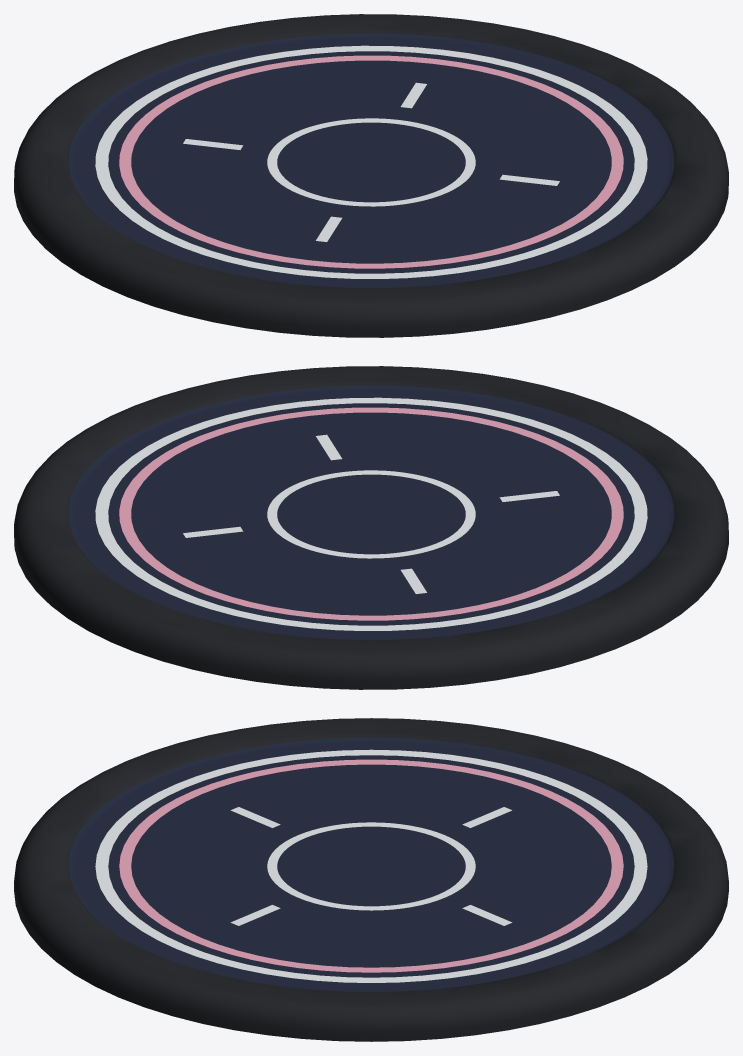
Rendered from HEX_Tokyo_QueuePad.fbx.
The picture shows the model from 3 angles, top to bottom: view 1: azimuth 30°, elevation 25°; view 2: azimuth 150°, elevation 25°; view 3: azimuth 270°, elevation 25°; orthographic projection.
Parts seen in each view (by area): view 1: Pad_Top, Pad_Base, Pad_Lines, Pad_GlowRing; view 2: Pad_Top, Pad_Base, Pad_Lines, Pad_GlowRing; view 3: Pad_Top, Pad_Base, Pad_Lines, Pad_GlowRing.
Part boxes in pixels (left/top/right/bottom): Pad_Top: left=68, top=33, right=674, bottom=287; Pad_Base: left=14, top=14, right=728, bottom=337; Pad_Lines: left=95, top=45, right=647, bottom=278; Pad_GlowRing: left=119, top=55, right=623, bottom=268; Pad_Top: left=68, top=385, right=674, bottom=639; Pad_Base: left=14, top=366, right=728, bottom=689; Pad_Lines: left=95, top=397, right=647, bottom=630; Pad_GlowRing: left=119, top=407, right=623, bottom=620; Pad_Top: left=68, top=737, right=674, bottom=991; Pad_Base: left=14, top=718, right=728, bottom=1041; Pad_Lines: left=95, top=749, right=647, bottom=982; Pad_GlowRing: left=119, top=759, right=623, bottom=972.
Size of the model in its own units: 7.2 by 0.32 by 7.2.
1 material, 1 textured.
